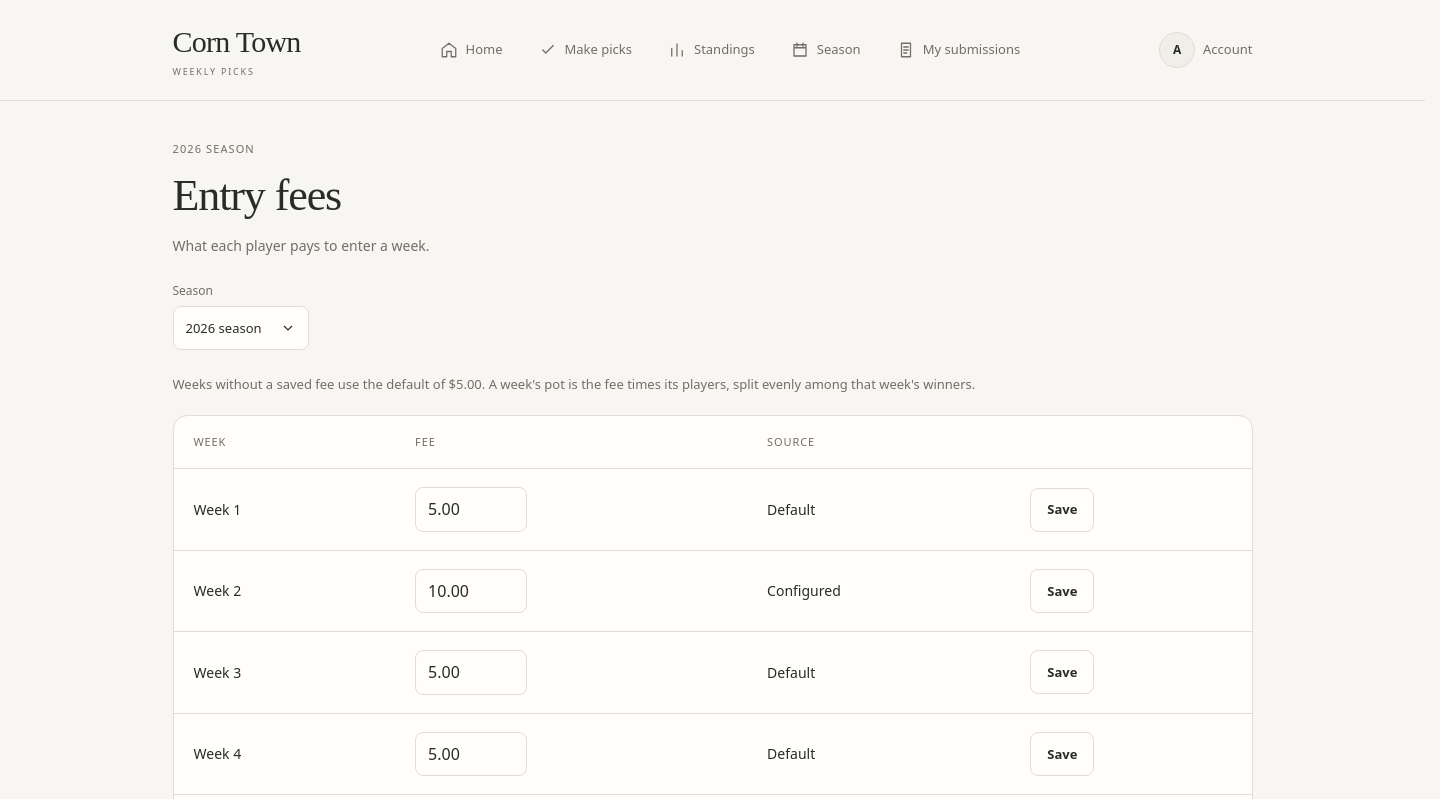
entry fee administration page › shows every week's fee and saves a dollar amount as whole cents with CSRF
Expected: the heading "Entry fees" is shown, [172,170,341,220]
Expected: the text "default of $5.00" is shown, [172,375,975,393]
Replace the text in the 1st number field named "Week 1 fee in dollars" with "7.50": (471, 510) [415,487,527,532]
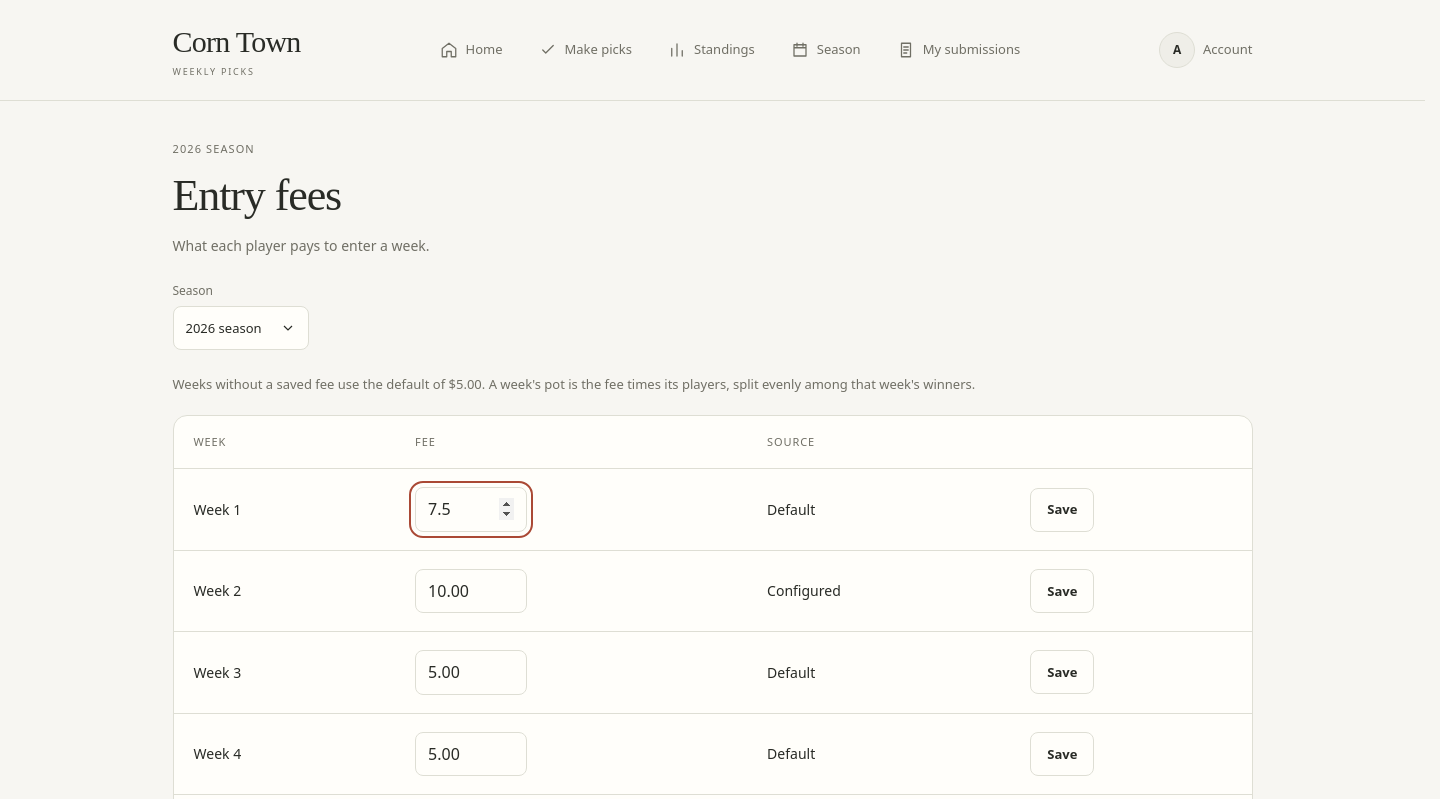
Click the button named "Save Week 1 fee": (1062, 510) [1030,488,1094,532]
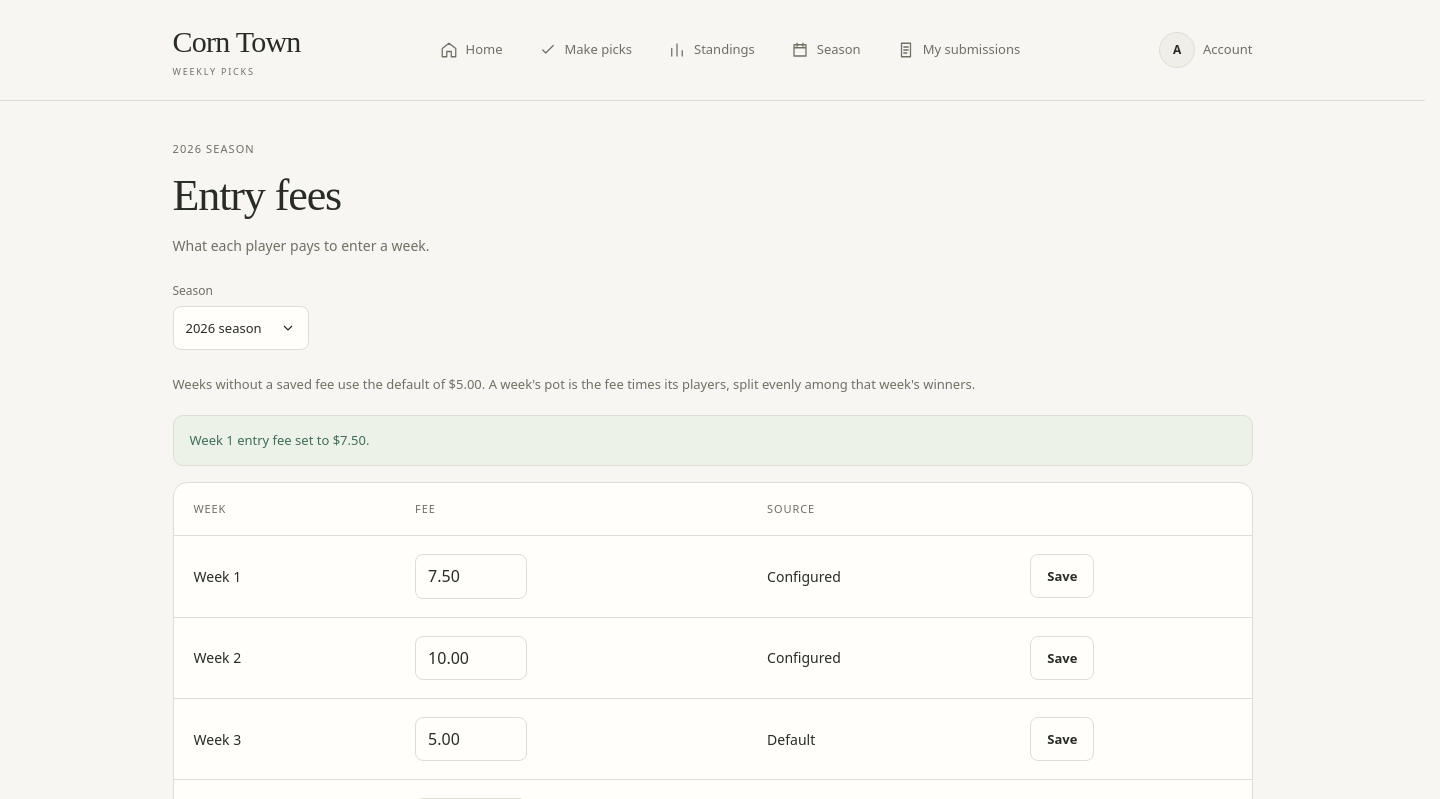
Expected: the message reads "Week 1 entry fee set to $7.50.", [190,431,369,449]
Expected: the row "Week 1 Configured Save" is shown, [174,536,1252,617]
